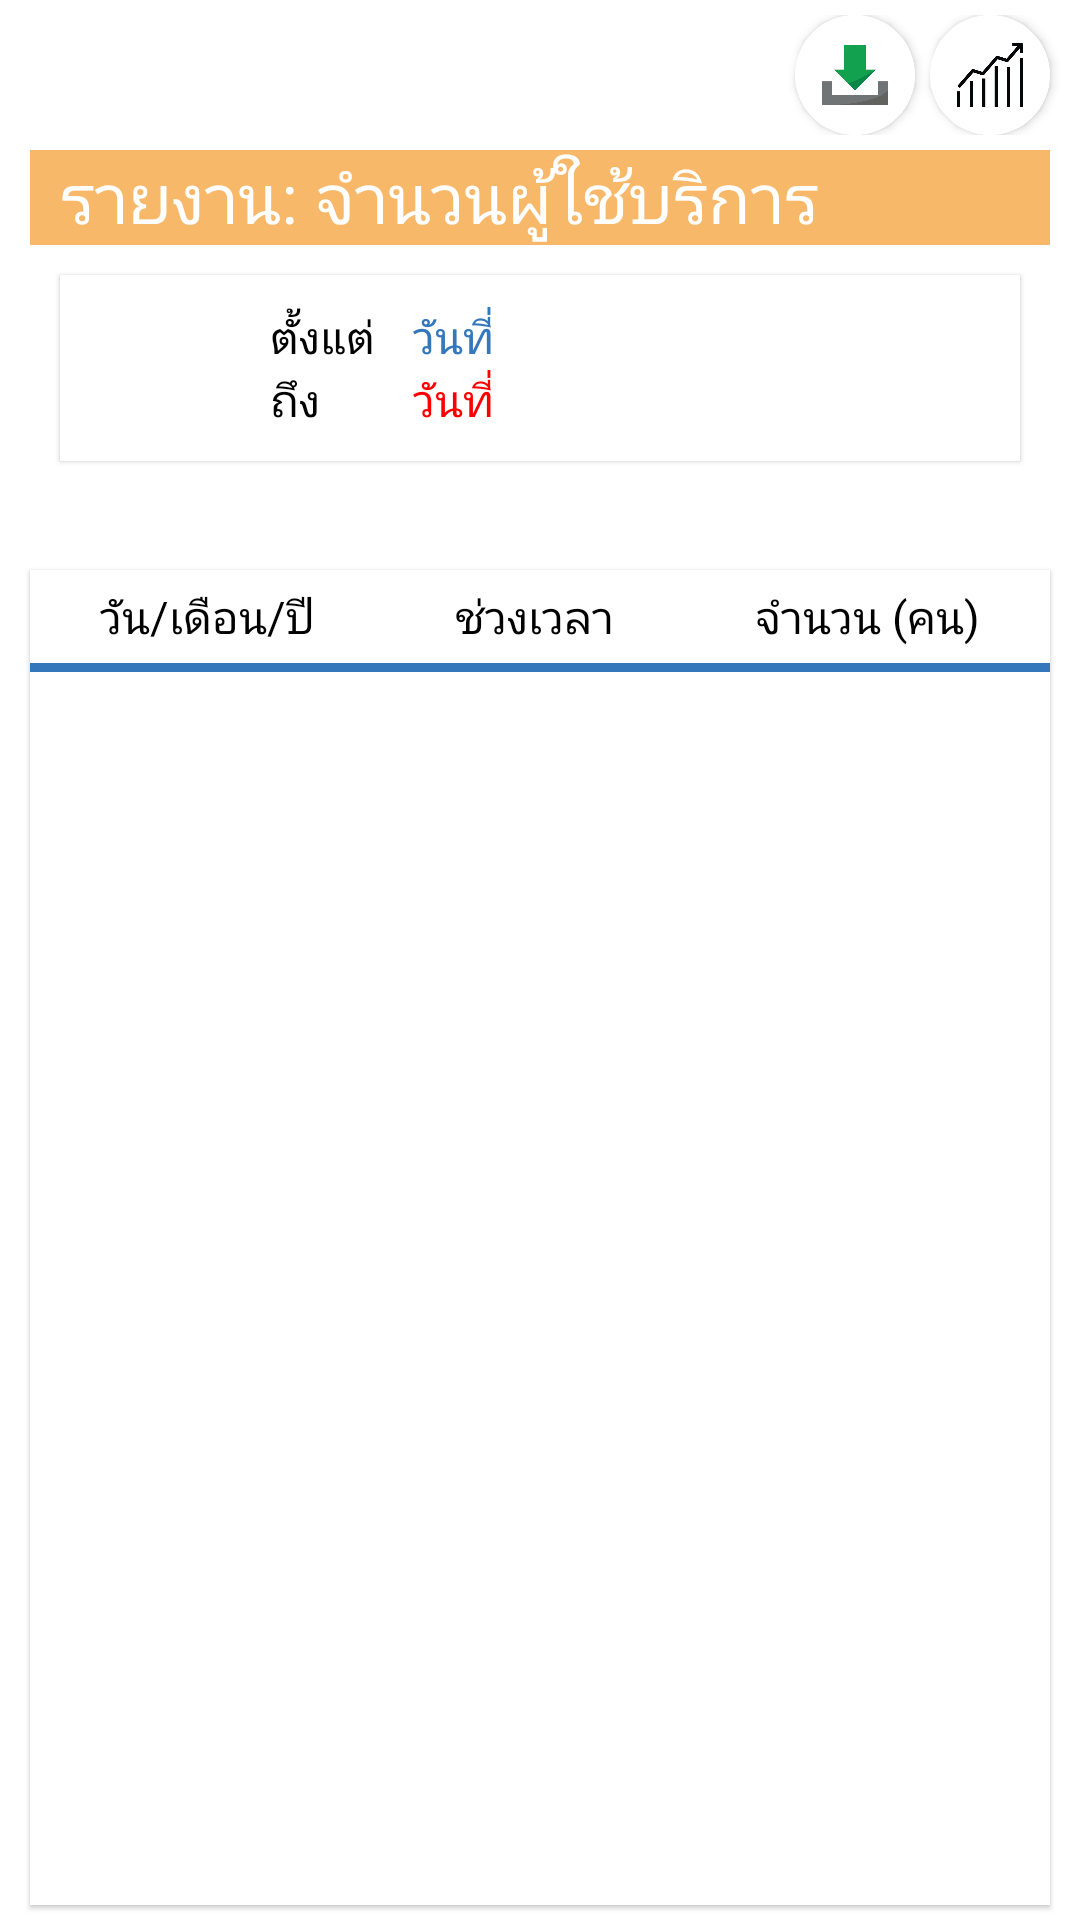

Named icons in this screenshot (1080px x 1920px) and their bounding boxes, (x1, y1, x2, y2):
download: (822, 15, 915, 135)
profits: (957, 15, 1050, 135)
